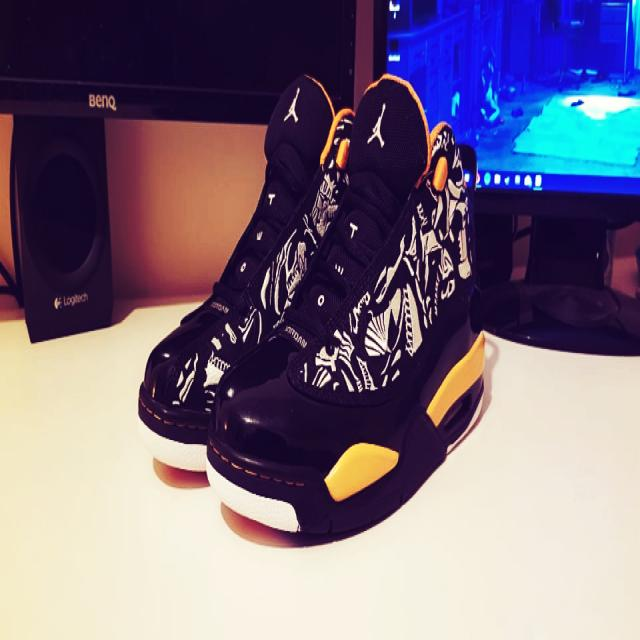shoe: (206, 70, 486, 542), (136, 71, 357, 472)
